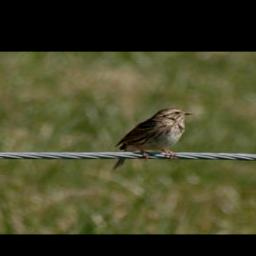Sparrow: (112, 106, 199, 171)
